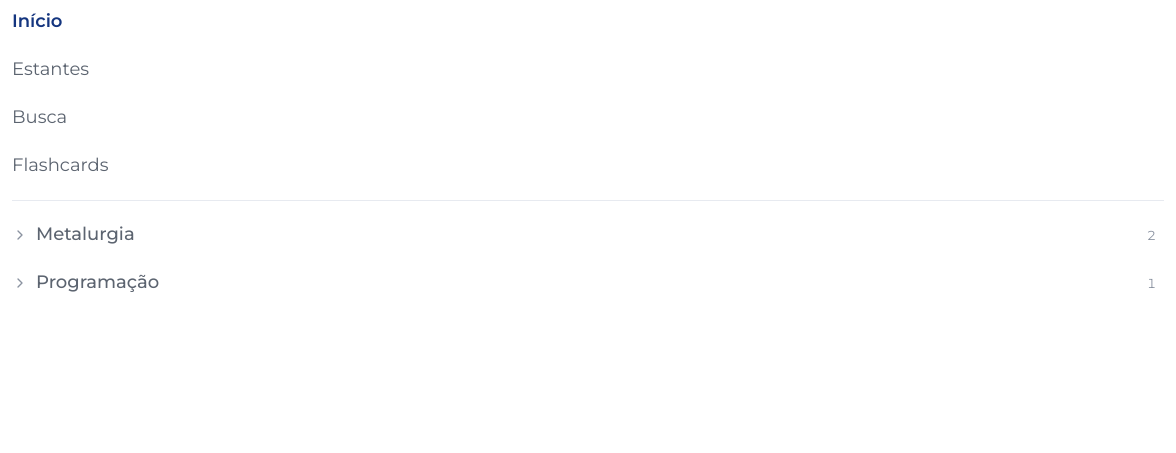
Test: SidebarTree › groups the published guides by subject and by folder
The width and height of the screenshot is (1176, 453).
Check: the button "Programação 1" is shown, box [12,261,1164,305]
Check: the link "Alumínio" is not shown
Step 1. Click the button "Metalurgia 2" → (85, 234), box [12,213,1164,257]
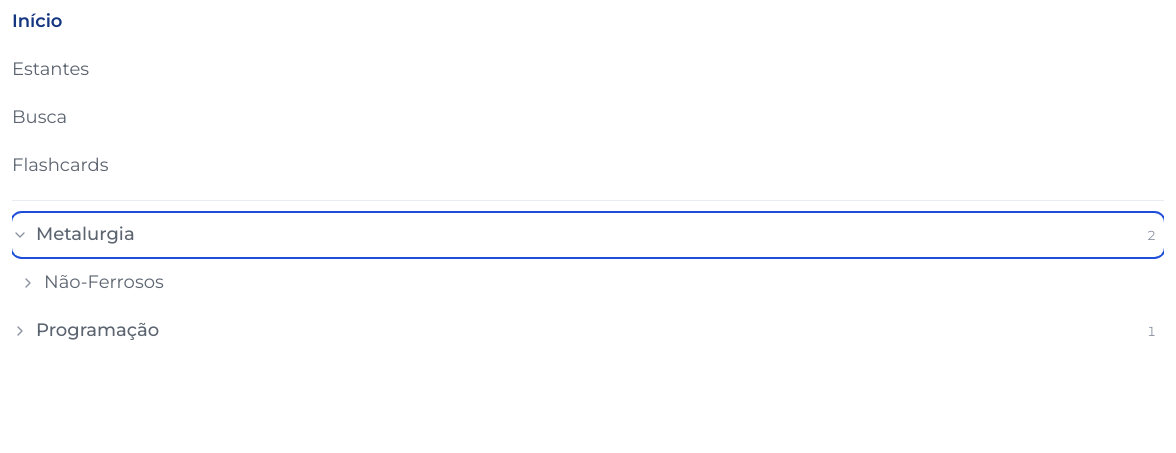
Check: the link "Alumínio" is not shown
Step 2. Click the button "Não-Ferrosos" → (104, 282), box [20,261,1164,305]
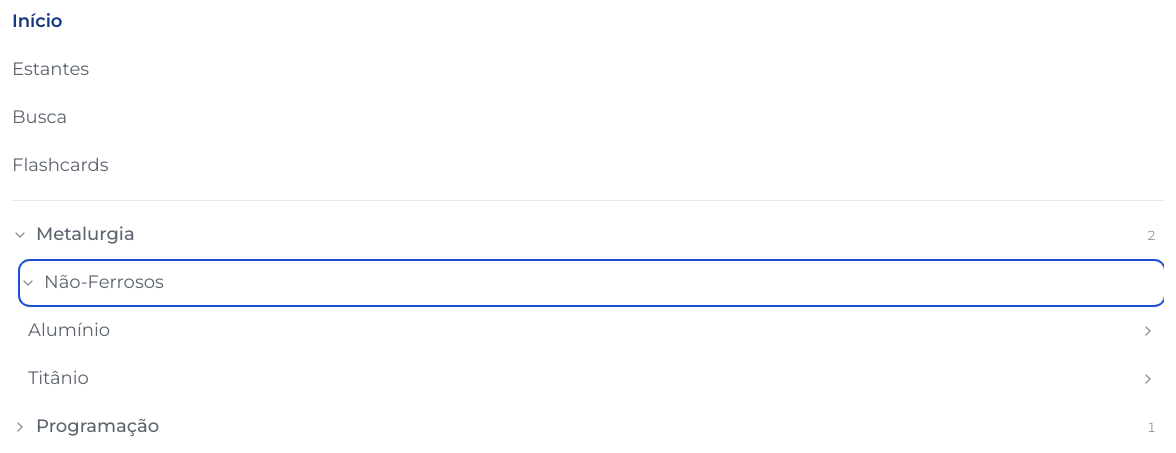
Check: the link "Alumínio" is shown, box [28,319,110,341]
Check: the link "Titânio" is shown, box [28,367,89,389]
